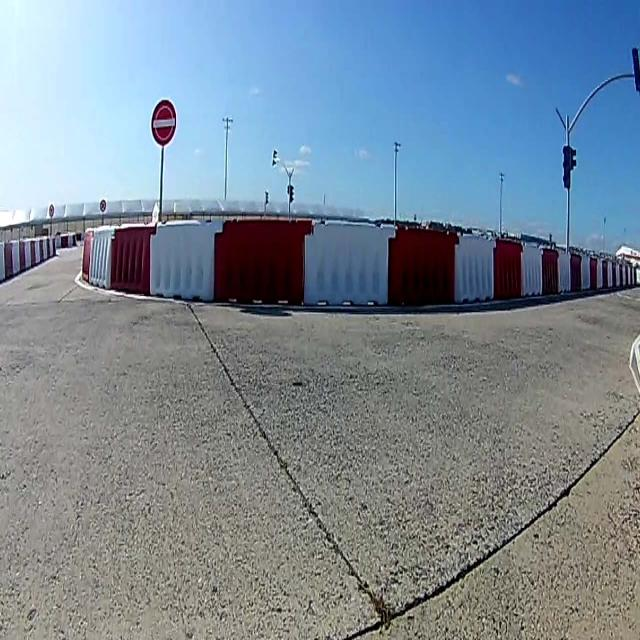girisyok: (151, 100, 177, 146)
